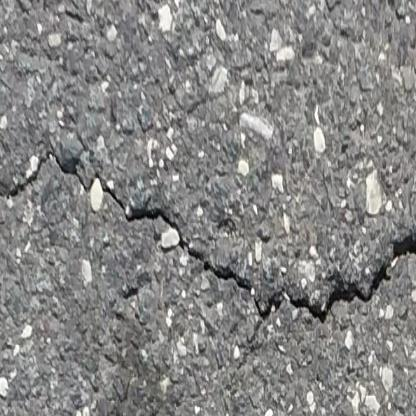Cracks: (0, 145, 416, 330)
